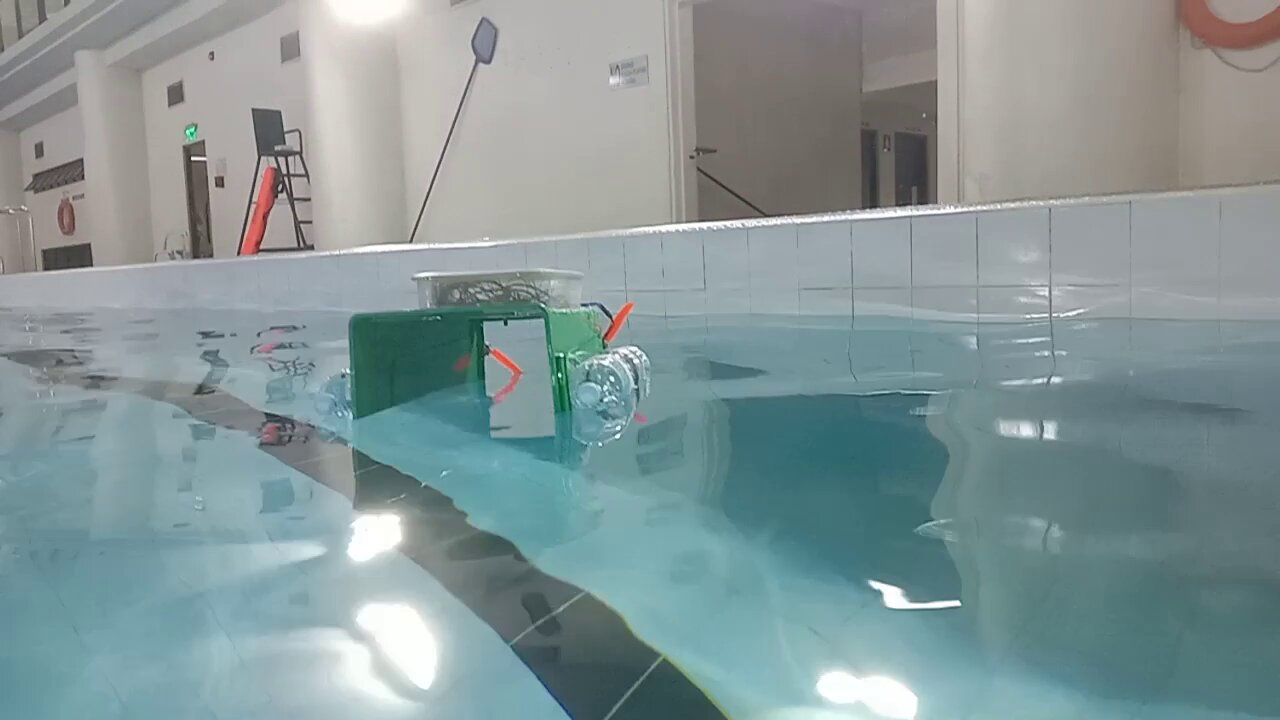drone: (313, 268, 653, 428)
